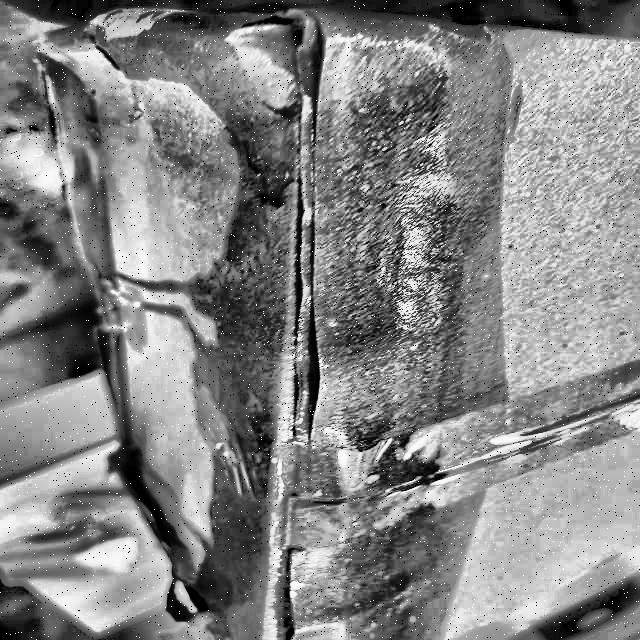box: (36, 0, 640, 640)
hole: (104, 441, 214, 628)
wet: (190, 13, 512, 639)
